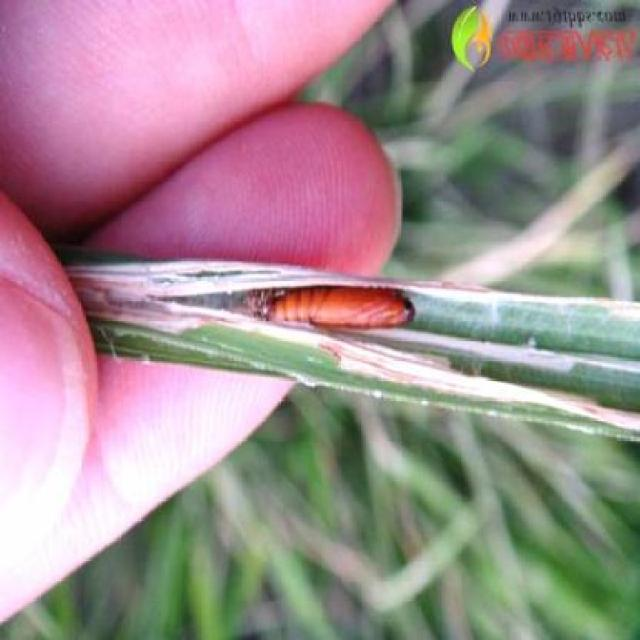leaf-folder: (246, 258, 429, 362)
